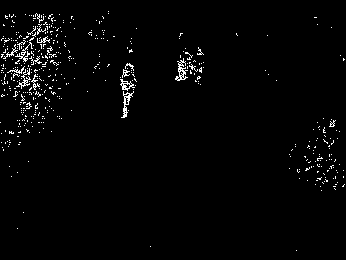person: (119, 61, 140, 121)
